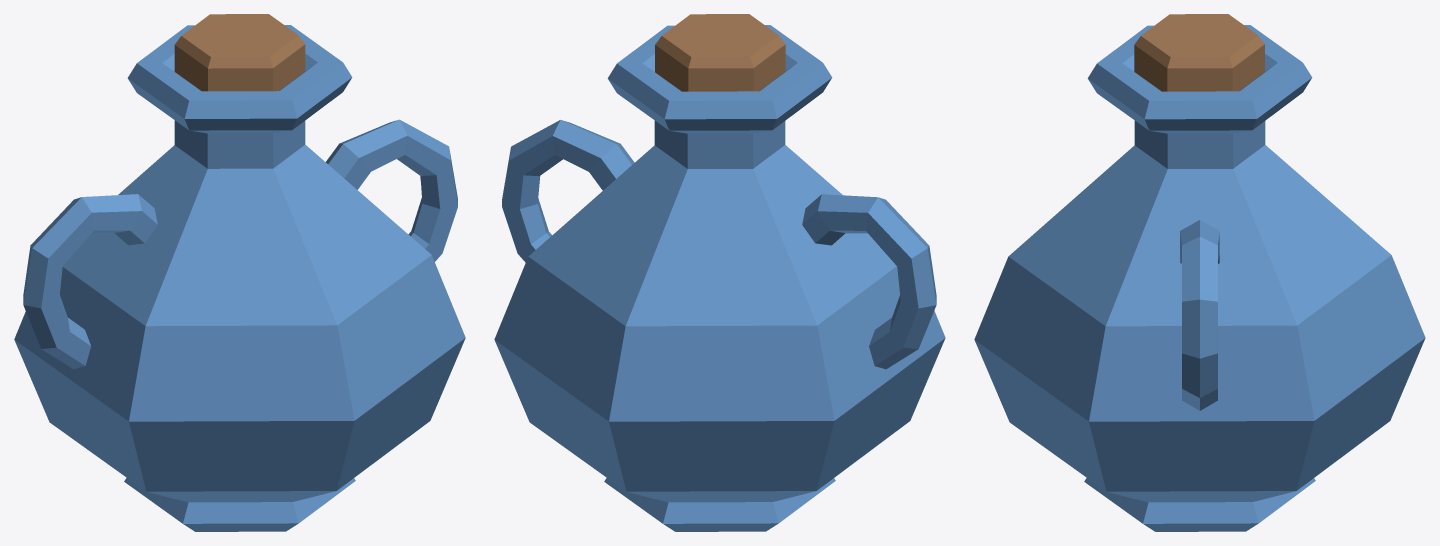
The model's file is Blue_Potion_16.fbx.
3 views of the same model, side by side, from view 1: azimuth 30°, elevation 25°; view 2: azimuth 150°, elevation 25°; view 3: azimuth 270°, elevation 25° (orthographic).
Visible parts, largest first — view 1: Blue_Potion_16; view 2: Blue_Potion_16; view 3: Blue_Potion_16.
Boxes of the visible parts, box(x1,y1,x2,y2) form: Blue_Potion_16: box(14, 14, 465, 531); Blue_Potion_16: box(494, 14, 945, 531); Blue_Potion_16: box(974, 14, 1425, 531).
Bounding box in the file's own units: 22.59 × 23 × 20.32.
